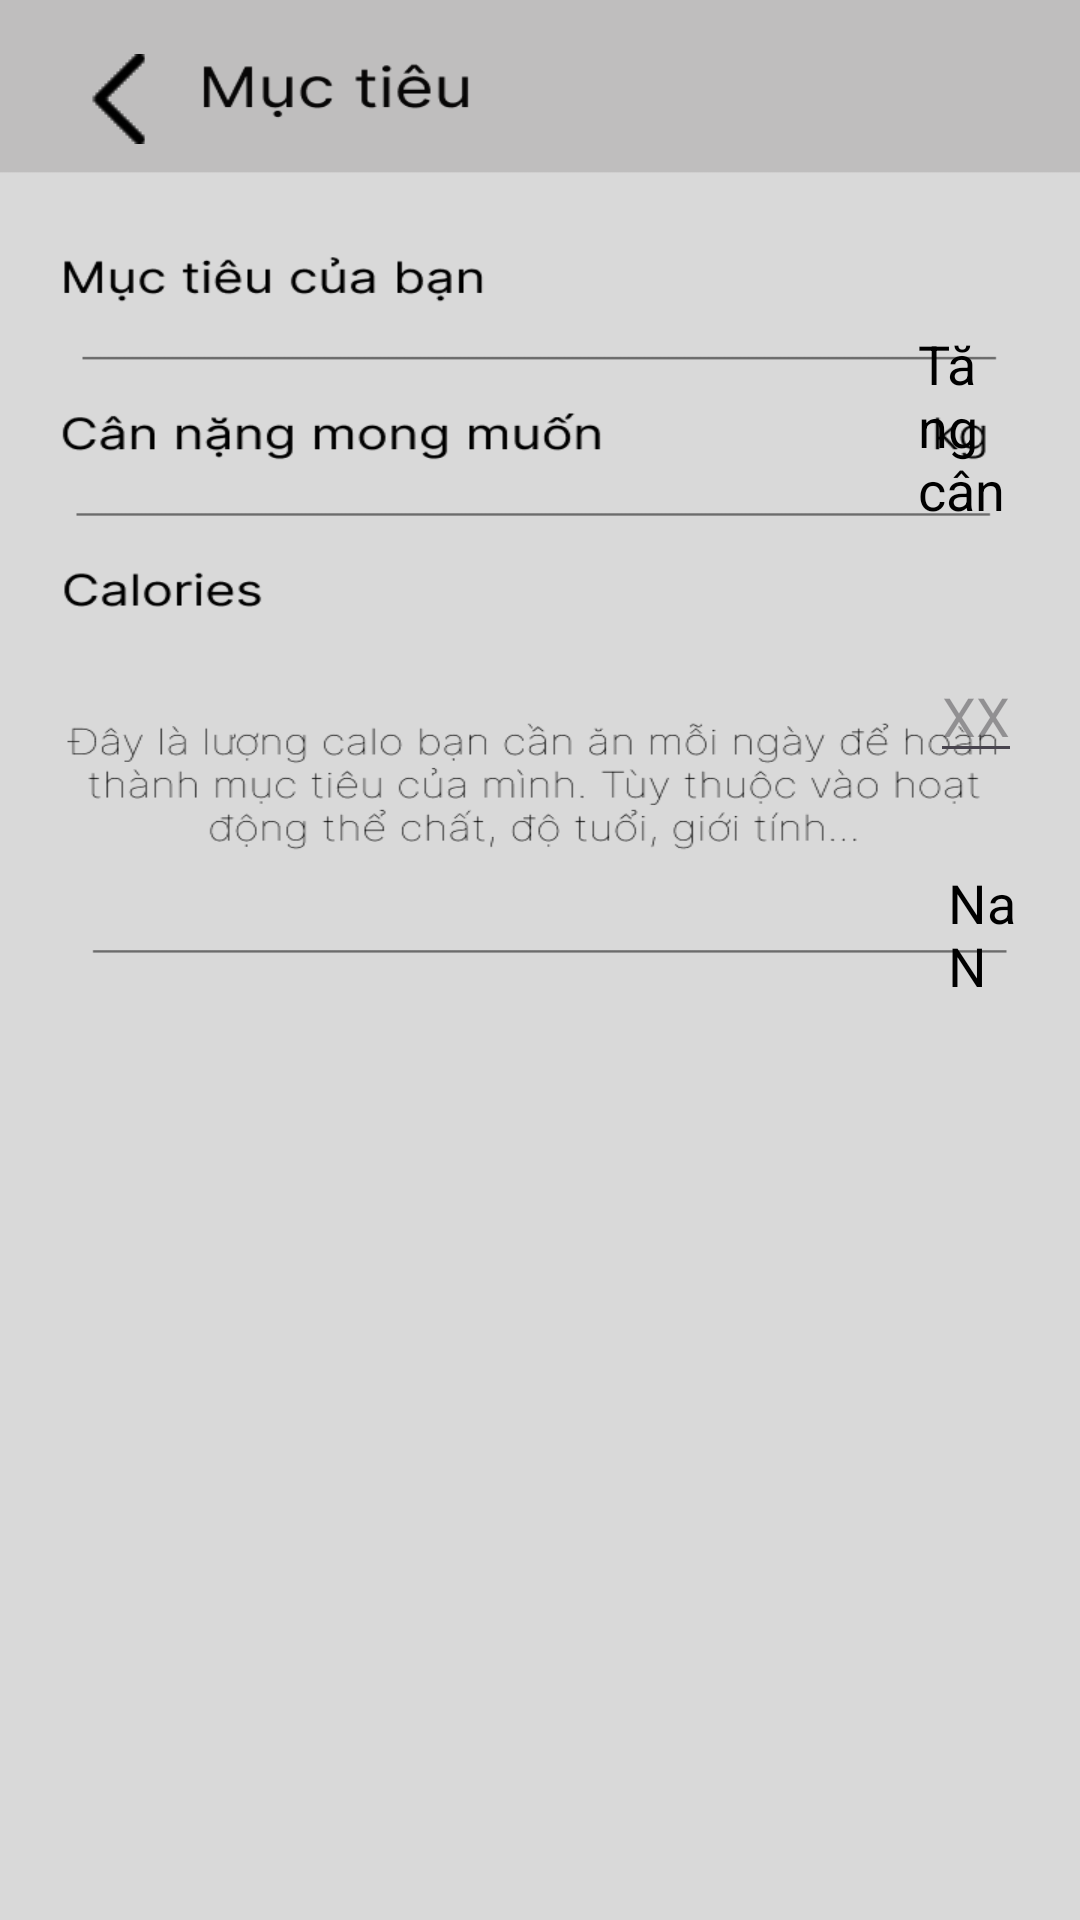

Icon click points for this 1080px×1920px phone screenshot, format (x,y):
back: (118,99)
